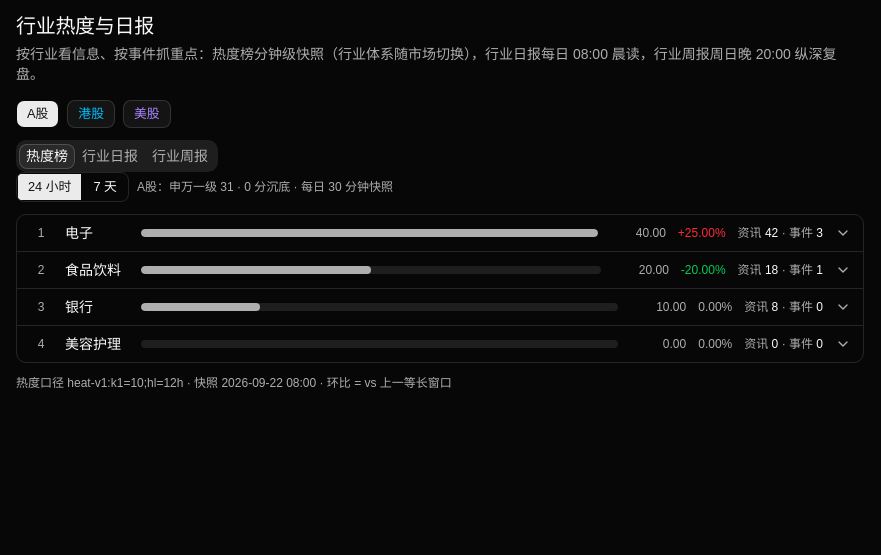
IndustryHeat 行业热度与日报页（T126）· 热度榜 Tab › 行点击页内展开下钻：默认 news 清单，total 与榜单计数对账展示
Click the button with test id "heat-row-电子": point(440, 233) [17, 215, 863, 251]
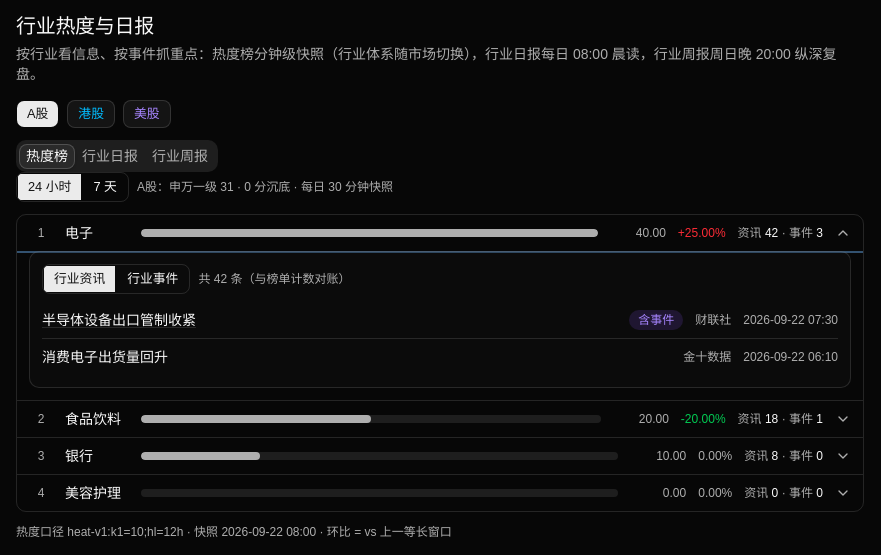
Result: the text with test id "drill-total-电子" shows "42" at [214, 272, 227, 286]
Result: the link "半导体设备出口管制收紧" is shown at [42, 312, 196, 328]
Result: the icon with test id "drill-has-event-101" is shown at [629, 310, 683, 330]
